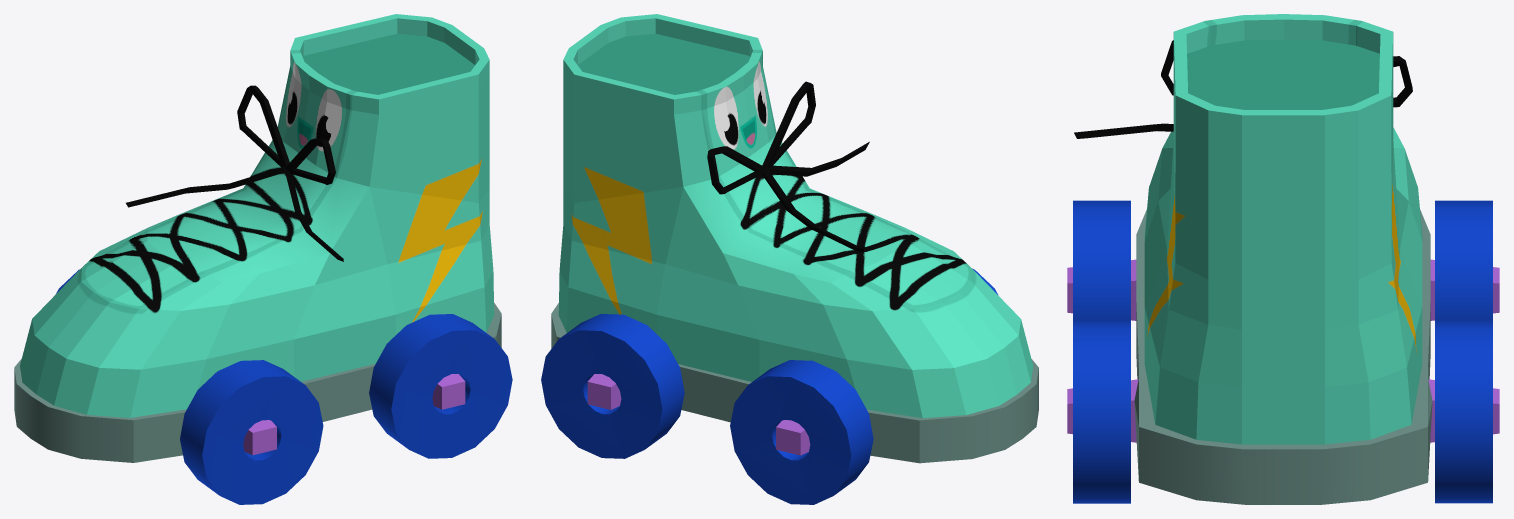
File: zapatillaT.FBX
3 renders of one model, left to right at view 1: azimuth 30°, elevation 25°; view 2: azimuth 150°, elevation 25°; view 3: azimuth 270°, elevation 25°, orthographic. The views are drawn at different scales.
Parts seen in each view (by area): view 1: Box001, Cylinder003, lazo1, lazo2, lazo003, lazo3; view 2: Box001, Cylinder003, lazo2, lazo1, lazo003, lazo3; view 3: Box001, Cylinder003, lazo3, lazo1.
Part boxes in pixels (box(x1,y1,x2,y2)): Box001: box(14, 14, 501, 462); Cylinder003: box(56, 269, 512, 504); lazo1: box(237, 85, 289, 167); lazo2: box(285, 138, 335, 184); lazo003: box(126, 166, 285, 207); lazo3: box(284, 166, 343, 261); Box001: box(551, 14, 1038, 463); Cylinder003: box(541, 268, 998, 504); lazo2: box(762, 81, 815, 168); lazo1: box(707, 146, 765, 194); lazo003: box(762, 168, 864, 252); lazo3: box(765, 141, 869, 176); Box001: box(1067, 14, 1499, 504); Cylinder003: box(1073, 200, 1492, 503); lazo3: box(1074, 123, 1173, 138); lazo1: box(1393, 56, 1412, 107).
Size of the model in its own units: 1.29 by 0.9372 by 0.8311.
Materials: 3 (1 with a texture image).
